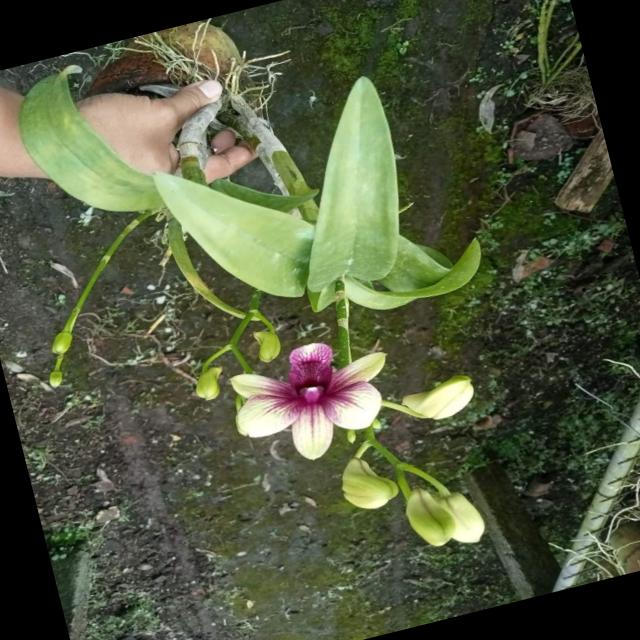flower: (231, 344, 381, 459)
leaf: (306, 78, 422, 294), (16, 74, 166, 213), (155, 172, 319, 298), (323, 237, 481, 310)
root: (133, 21, 218, 84), (535, 0, 557, 75), (222, 55, 247, 99), (103, 37, 155, 53)
stem: (235, 104, 312, 200), (175, 98, 221, 182)
